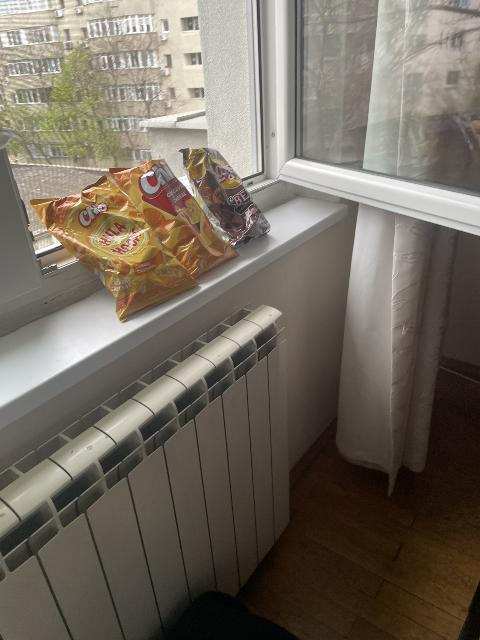Chio Cascaval 125g: (109, 156, 238, 280)
Chio Hula Hoops Cheese 70g: (30, 173, 200, 323)
Lays Beef Grilled Ribs 125g: (181, 147, 271, 245)
